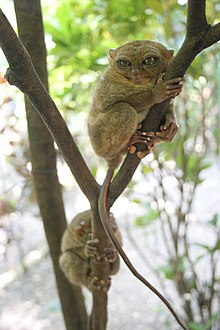tarsier: (87, 37, 183, 171), (58, 205, 133, 294)
